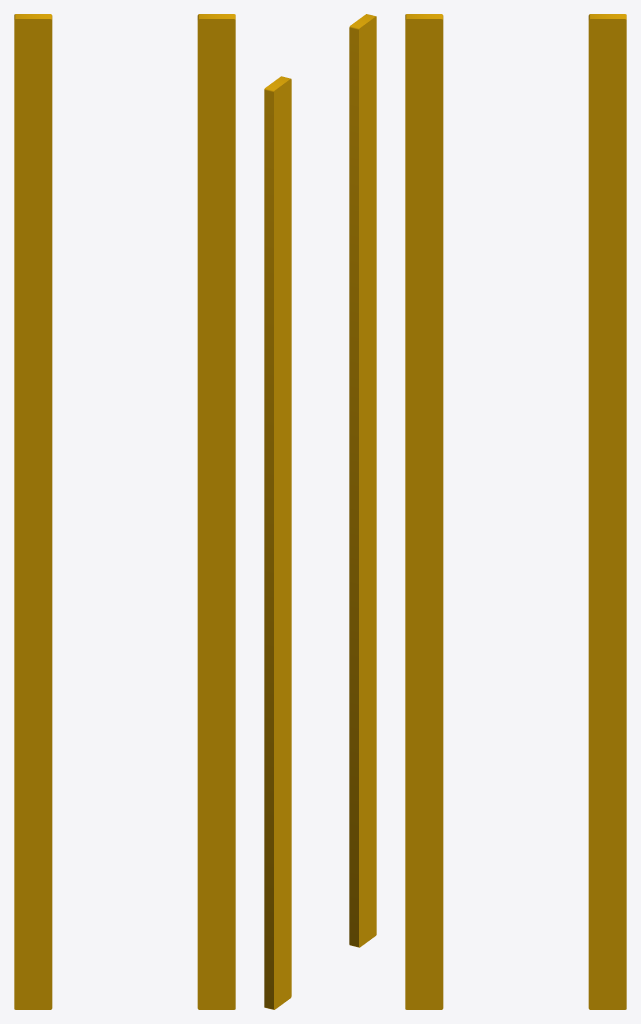
3 renders of one model, left to right at view 1: azimuth 90°, elevation 25°; view 2: azimuth 150°, elevation 25°; view 3: azimuth 270°, elevation 25°, orthographic. The views are drawn at different scales.
Visible parts, largest first — view 1: TransformZUpToYUp; view 2: TransformZUpToYUp; view 3: TransformZUpToYUp.
Boxes of the visible parts, x1,y1,x2,y2 form: TransformZUpToYUp: (14, 14, 235, 1009); TransformZUpToYUp: (264, 14, 376, 1009); TransformZUpToYUp: (405, 14, 626, 1009).
Bounding box in the file's own units: 16 × 1441 × 292.
